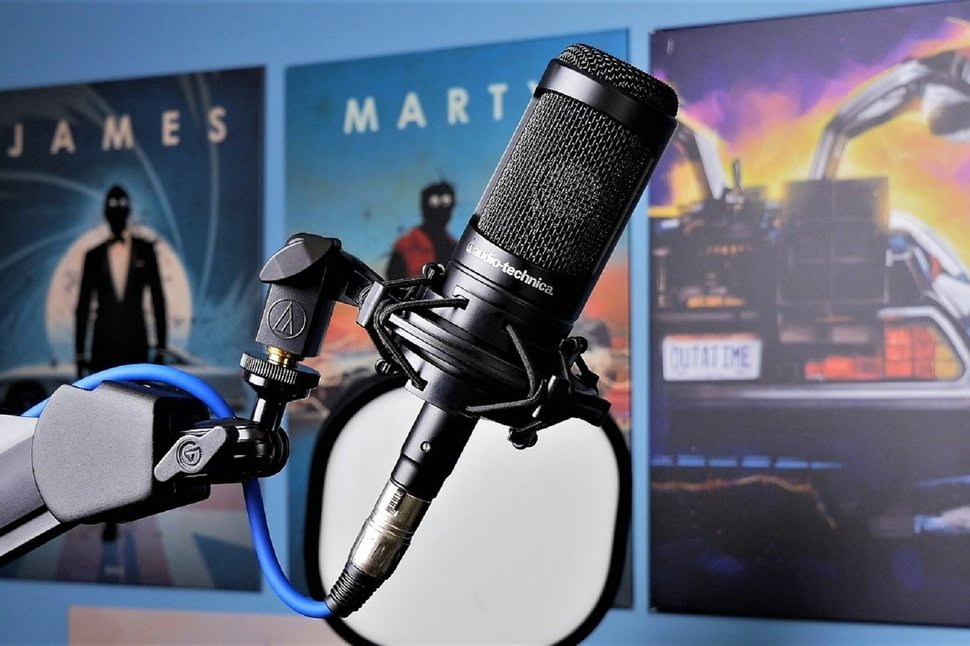microphone: (290, 40, 683, 622)
